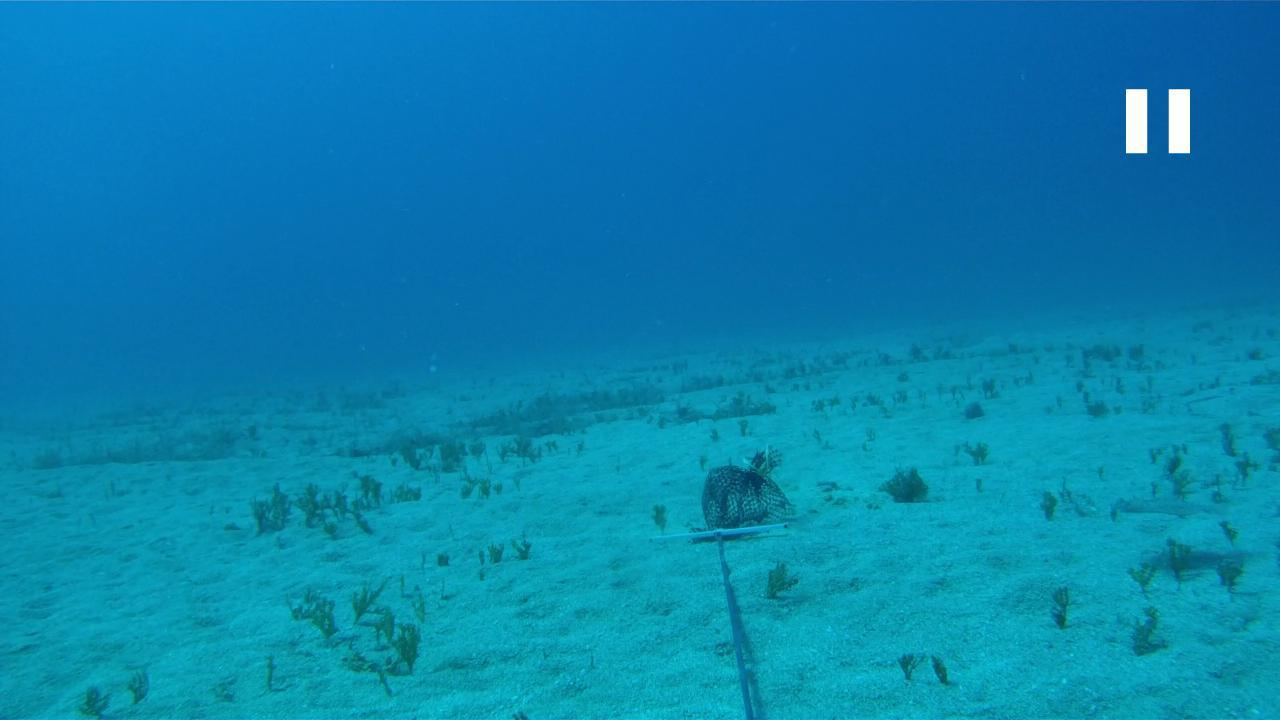bothus: (1110, 491, 1210, 521)
